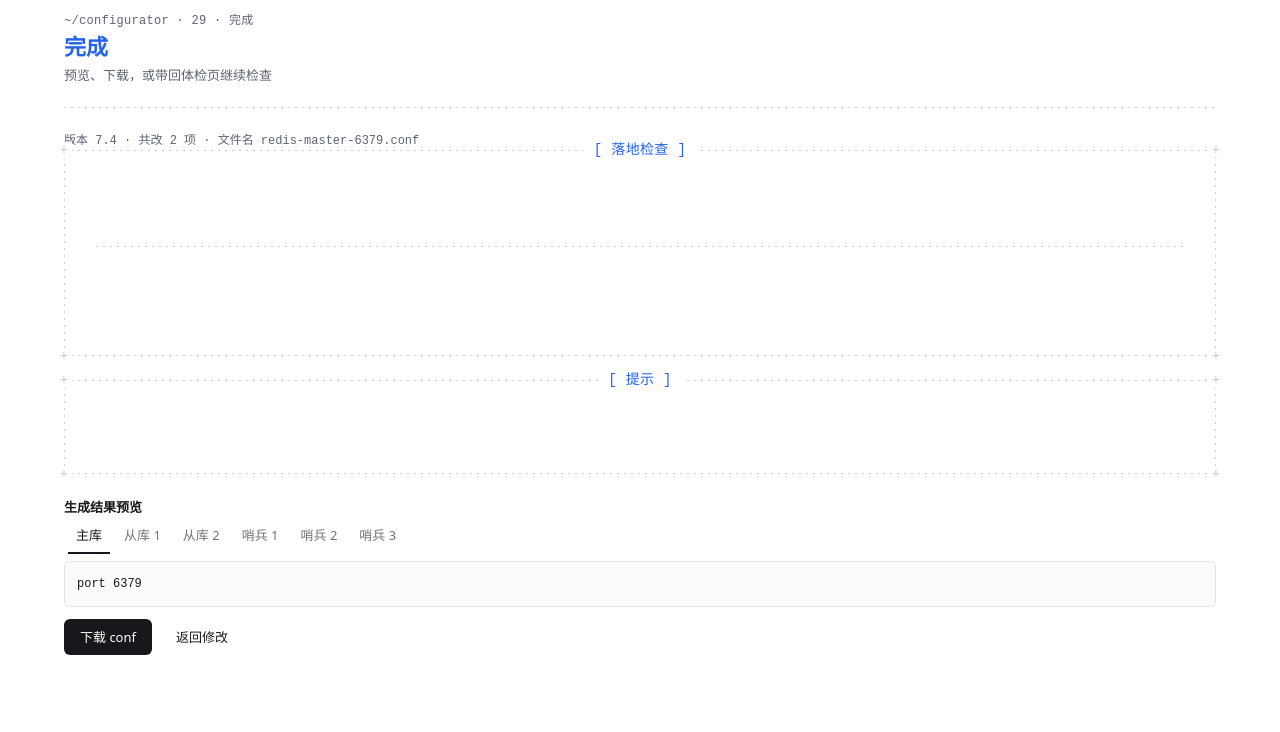
Test: 多文件场景渲染六个标签并按标签切换预览
Check: the text named "生成结果预览" reads "port 6379", box [77,577,142,591]
Click the tab "从库 1" at (142, 535), box [115,521,170,550]
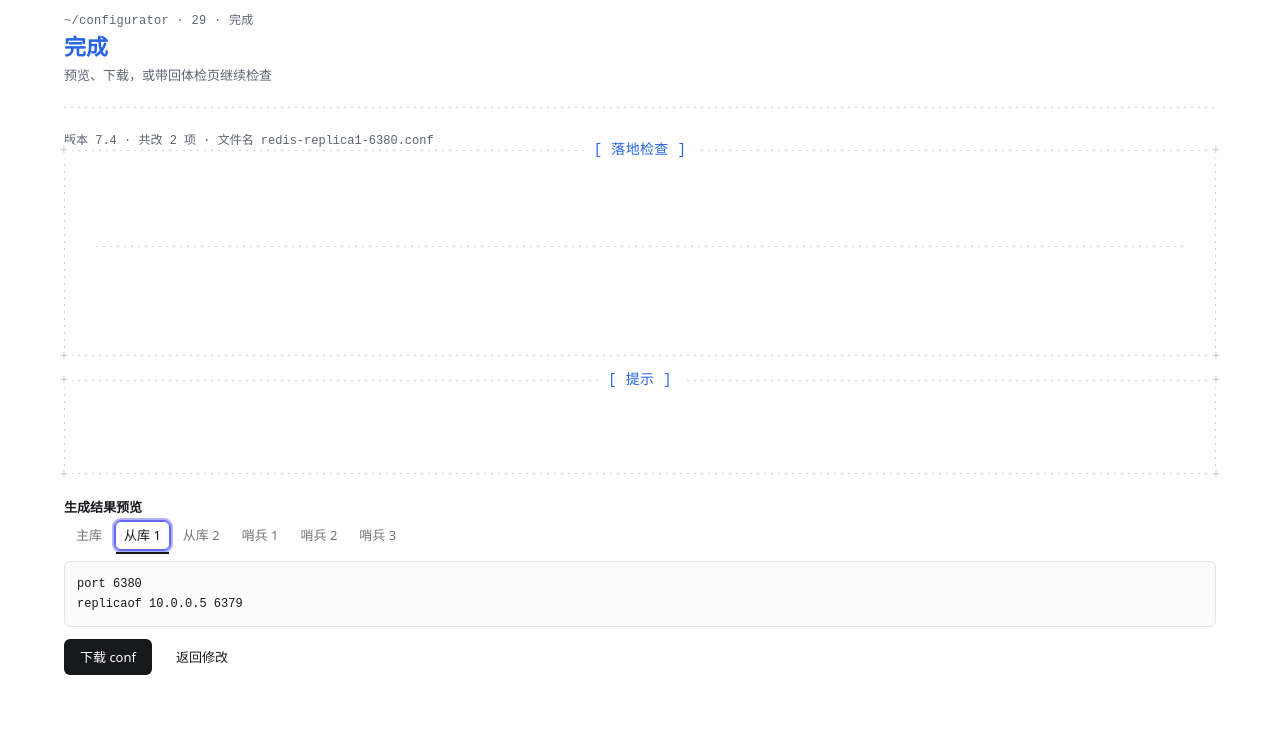
Check: the text named "生成结果预览" shows "replicaof 10.0.0.5 6379", box [77,577,243,611]
Check: the text "版本 7.4 · 共改 2 项 · 文件名 redis-replica1-6380.conf" is shown, box [64,134,434,148]
Click the tab "哨兵 1" at (260, 535), box [233,521,288,550]
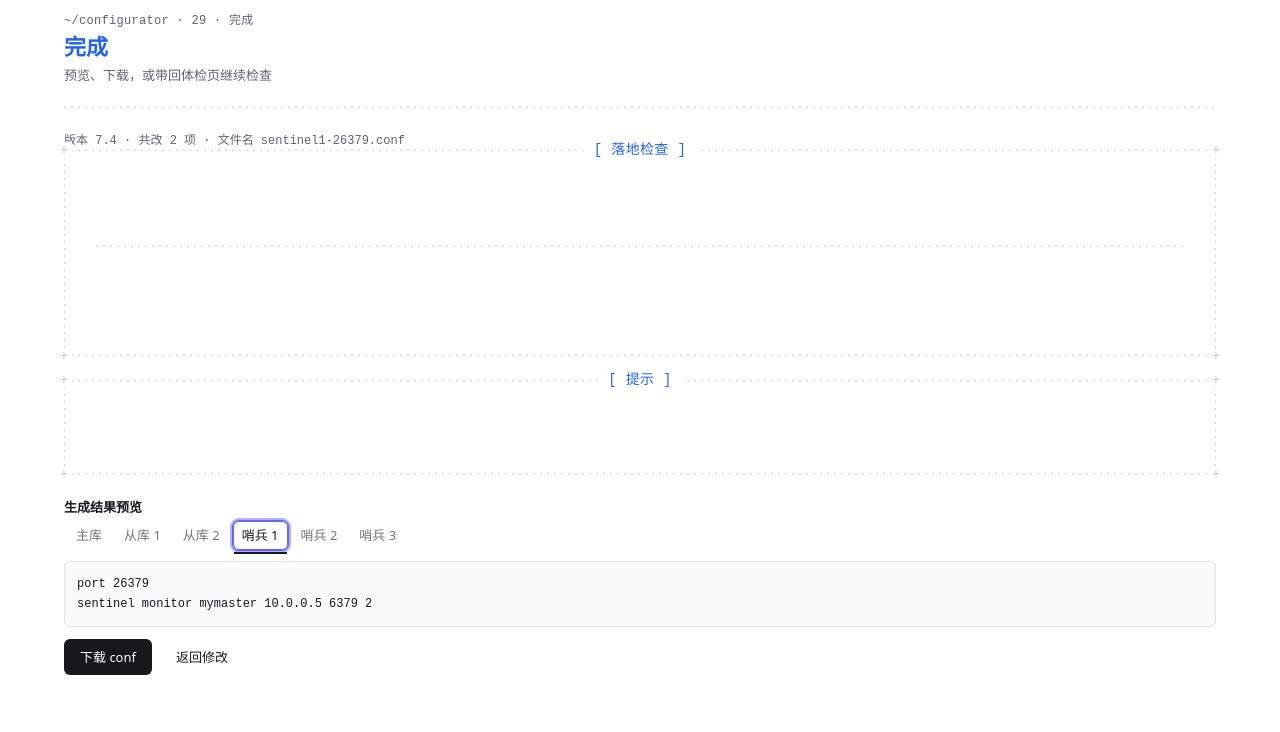
Check: the text named "生成结果预览" shows "sentinel monitor mymaster 10.0.0.5 6379 2", box [77,577,372,611]
